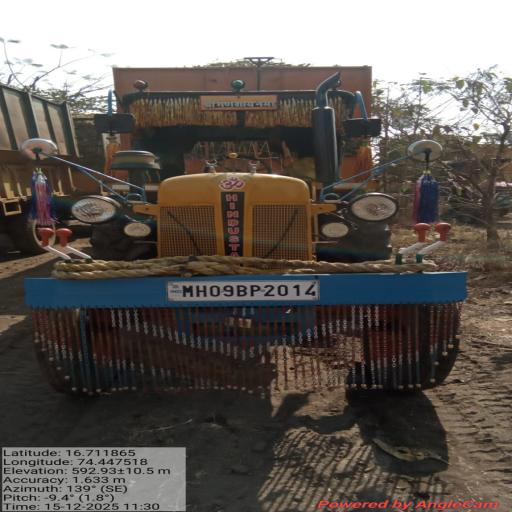number_plate: (154, 273, 334, 305)
